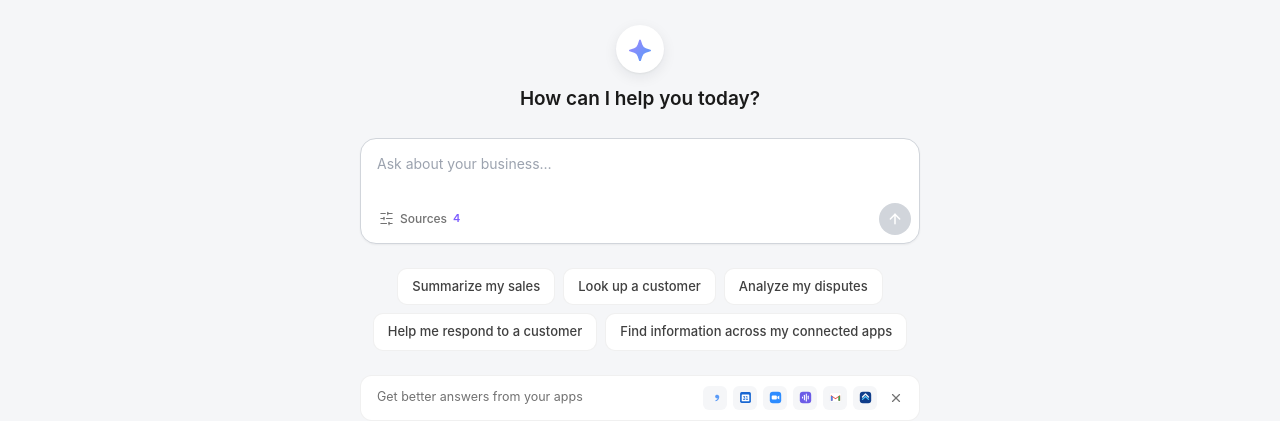
chat flow (wired to the real agent backend over POST /api/agent/run) › renders a clean error state when the shared agent reports a failure (event: error frame)
The image size is (1280, 421).
Click the button "Analyze my disputes" at (803, 286), box [724, 268, 883, 305]
Wait 500 ms
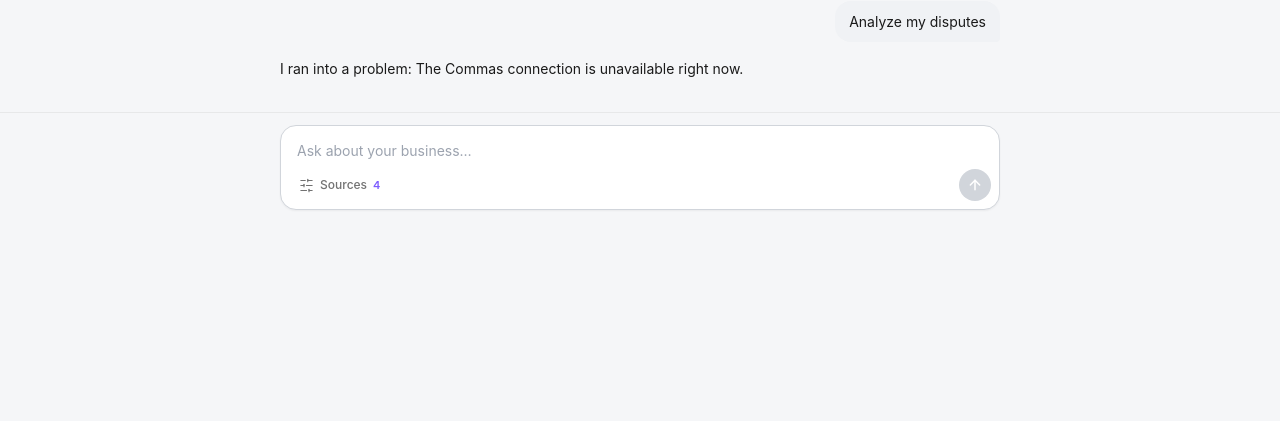
Expected: the text "I ran into a problem: The Commas connection is unavailable right now." is shown, [280, 60, 743, 77]
